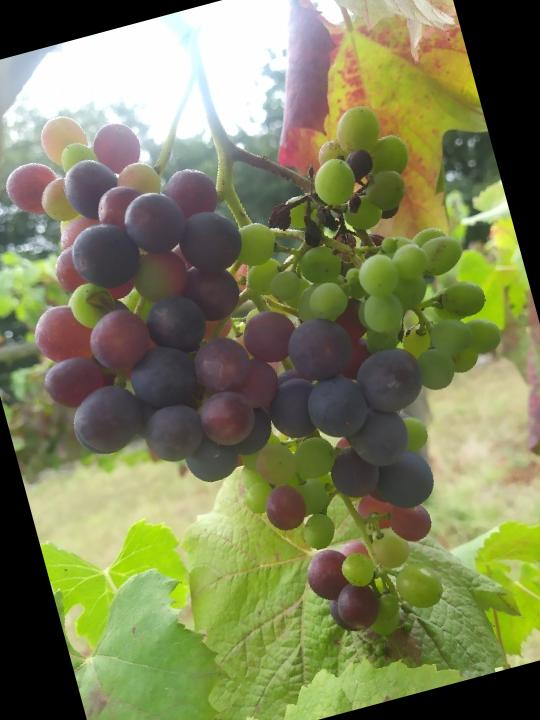grape: (0, 15, 540, 709)
